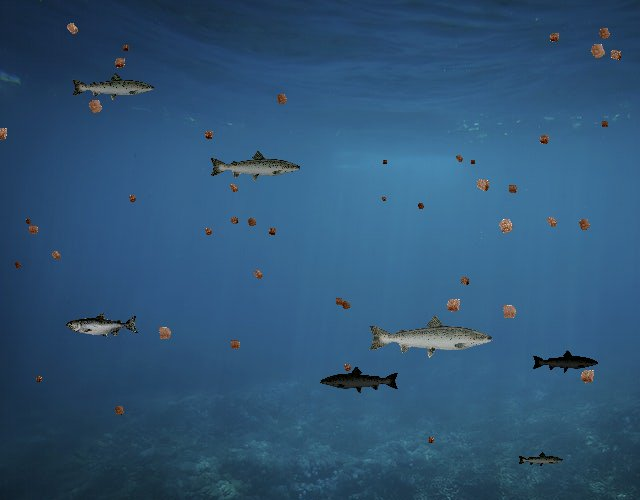Fish: (366, 313, 495, 359), (209, 150, 303, 184), (70, 71, 156, 102), (319, 366, 400, 395), (66, 312, 139, 338), (531, 349, 599, 374), (517, 451, 564, 468)
Pellet: (439, 291, 468, 320), (573, 363, 601, 391), (469, 171, 496, 198), (60, 16, 85, 41), (572, 212, 596, 236), (339, 360, 356, 377), (32, 372, 46, 386)
